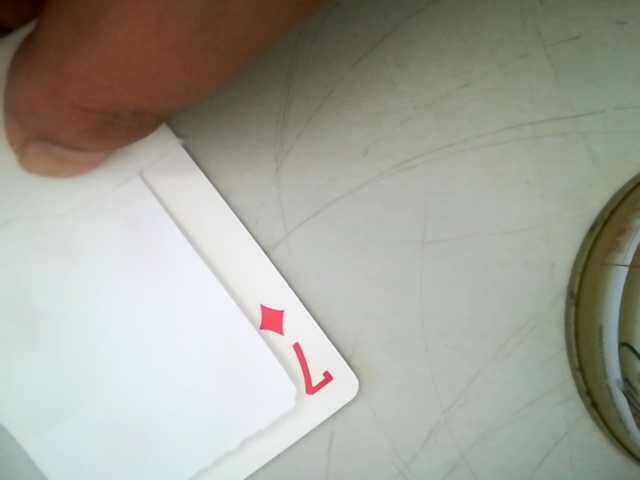fk 7: (245, 290, 340, 410)
